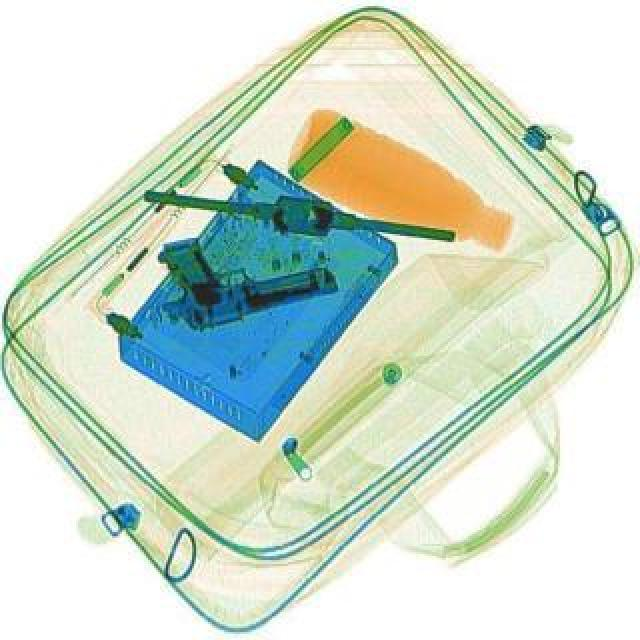gun: (146, 212, 342, 344)
